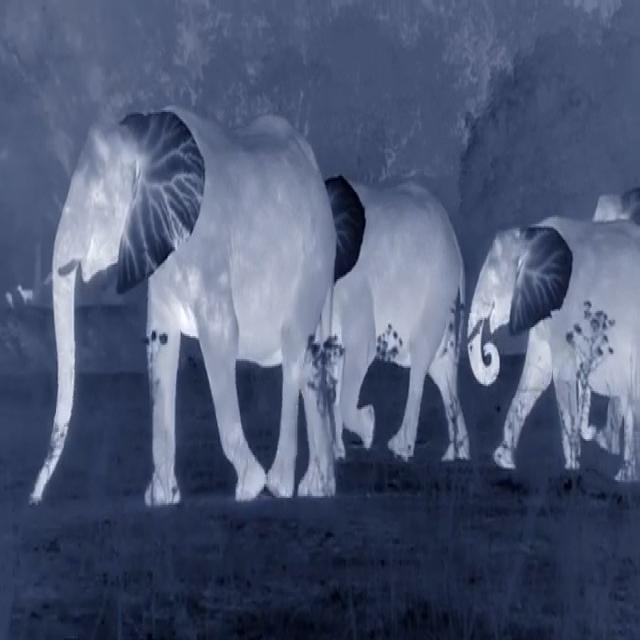animal: (19, 51, 369, 552), (464, 157, 640, 611)
